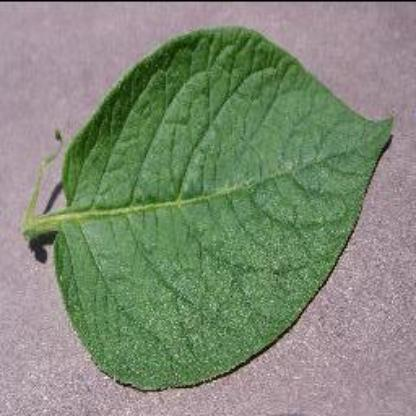Healthy-plant: (18, 22, 404, 394)
